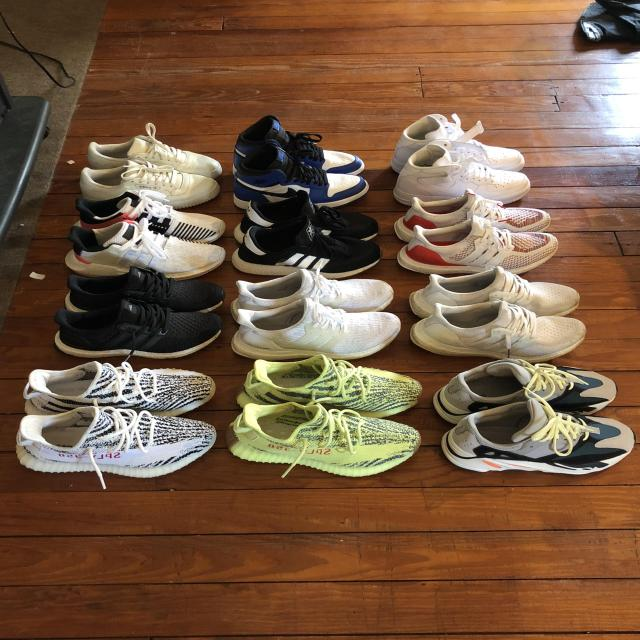shoe: (422, 392, 640, 483), (13, 395, 225, 486), (422, 351, 634, 430), (236, 344, 434, 428), (234, 395, 417, 483), (206, 289, 413, 363), (39, 290, 239, 366), (231, 113, 377, 214), (16, 354, 231, 422), (41, 214, 238, 286), (378, 186, 592, 246), (386, 216, 589, 278), (374, 143, 564, 208), (45, 260, 246, 319), (409, 260, 608, 318), (227, 259, 415, 316), (232, 214, 388, 281), (408, 298, 584, 354), (58, 154, 229, 211), (227, 152, 377, 212), (65, 195, 234, 243), (77, 128, 229, 180)
